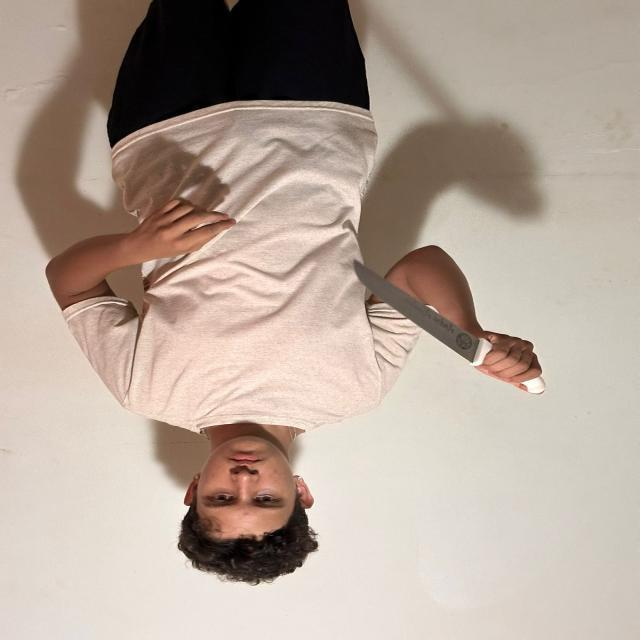knife: (350, 261, 478, 363)
